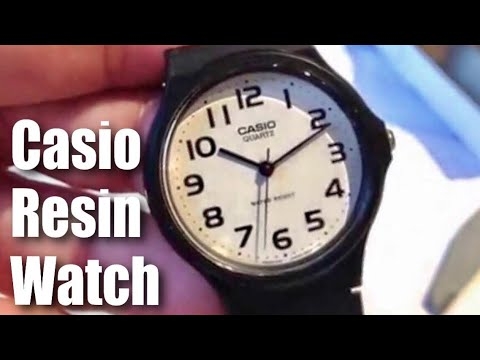clock: (158, 52, 388, 284)
